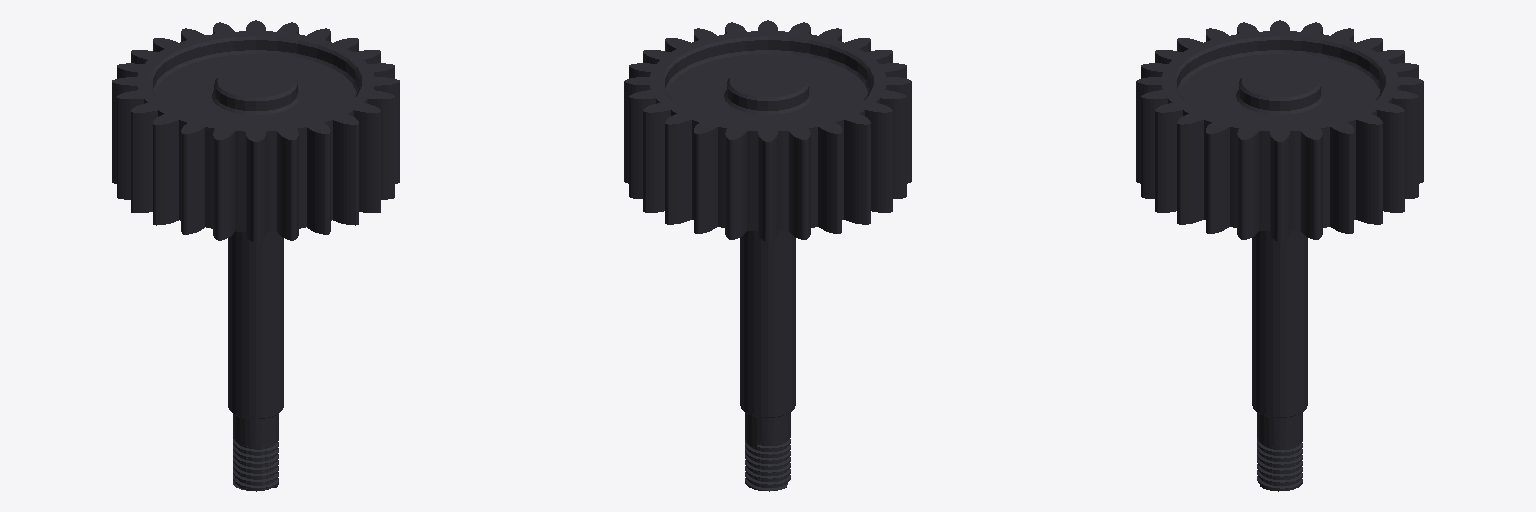
URDF robot description (planet_gear):
<?xml version="1.0"?>
<!--
  PLANET GEAR — planet_gear.urdf
  =========================================================================
  Source mesh   : meshes/Planet_Gear.obj  (Fusion 360 export, units = cm)
  Raw bbox      : 2.599 x 2.599 x 4.000 (cm) -> 26mm dia x 40mm tall
  Scale applied : 0.01  (cm -> m)
  Final size    : 26mm dia x 40mm tall -> comfortably under the 80mm
                  gripper opening and the 3kg payload limit.

  Spawn this URDF multiple times (e.g. 3-4 instances) with unique link/
  joint namespacing per instance if you load them into one combined
  scene graph; as standalone Genesis entities each spawn is independent
  so no renaming is required.

  Mass hardcoded to 1.0 kg per spec (simulation override, not a
  physically accurate density-based value for a 26x40mm steel part).
-->
<robot name="planet_gear">

  <material name="dark_steel">
    <color rgba="0.22 0.22 0.25 1.0"/>
  </material>

  <link name="planet_gear_link">

    <inertial>
      <!-- Solid cylinder approx: r=0.013m, h=0.04m, m=1.0kg -->
      <origin xyz="0 0 0" rpy="0 0 0"/>
      <mass value="1.0"/>
      <inertia ixx="1.756e-04" ixy="0.0" ixz="0.0"
               iyy="1.756e-04" iyz="0.0"
               izz="8.450e-05"/>
    </inertial>

    <visual>
      <origin xyz="0 0 0" rpy="0 0 0"/>
      <geometry>
        <mesh filename="../meshes/Planet_Gear.obj" scale="0.01 0.01 0.01"/>
      </geometry>
      <material name="dark_steel"/>
    </visual>

    <collision>
      <origin xyz="0 0 0" rpy="0 0 0"/>
      <geometry>
        <mesh filename="../meshes/Planet_Gear.obj" scale="0.01 0.01 0.01"/>
      </geometry>
    </collision>

  </link>

  <!--
    Genesis friction: set at load time via material, e.g.
        gs.materials.Rigid(friction=1.0)
    <gazebo> mu1/mu2 kept for cross-engine portability.
  -->
  <gazebo reference="planet_gear_link">
    <mu1>1.0</mu1>
    <mu2>1.0</mu2>
  </gazebo>

</robot>

--- Facts derived from the render (not from the file) ---
3 views of the same robot in one strip: view 1: azimuth 30°, elevation 25°; view 2: azimuth 150°, elevation 25°; view 3: azimuth 270°, elevation 25° (orthographic).
Model planet_gear with 1 links and 0 joints (none), rooted at planet_gear_link, posed all joints at 0.
Visible links, largest first — view 1: planet_gear_link; view 2: planet_gear_link; view 3: planet_gear_link.
Boxes of the visible links, x1=… form: planet_gear_link: x1=112, y1=20, x2=399, y2=491; planet_gear_link: x1=624, y1=20, x2=911, y2=491; planet_gear_link: x1=1136, y1=20, x2=1423, y2=491.
Size in the robot's own frame: 0.026 by 0.026 by 0.04 metres.
1 mesh visuals loaded from 1 distinct referenced files (1 OBJ).
